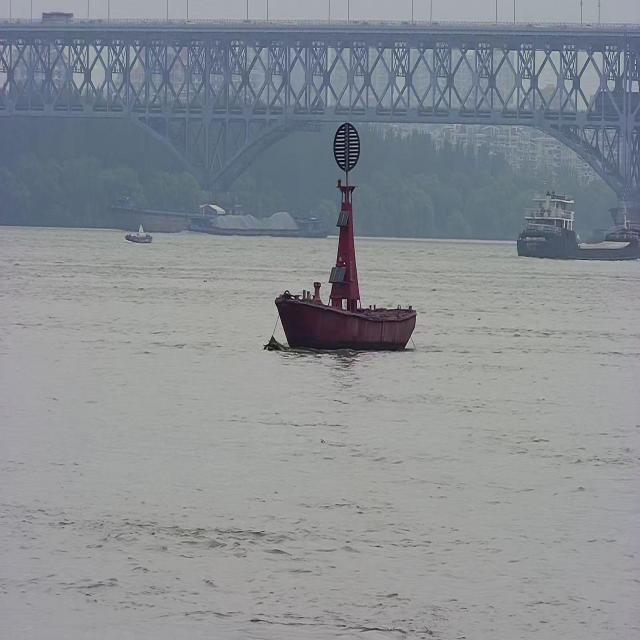CIV_Ship: (260, 112, 428, 356), (120, 210, 156, 248)
